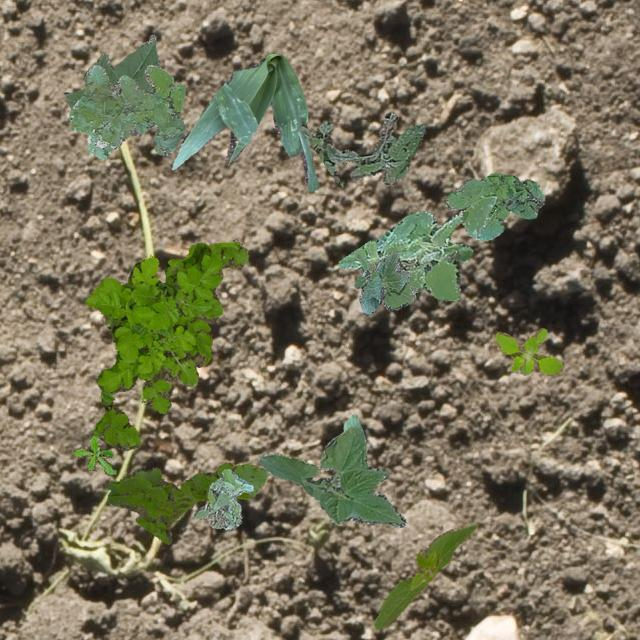crop: (170, 51, 316, 190), (256, 426, 406, 526), (372, 522, 476, 628), (64, 34, 158, 108), (354, 248, 414, 314), (342, 414, 362, 431)
weed: (85, 241, 246, 448), (336, 190, 496, 300), (105, 460, 268, 542), (68, 64, 184, 158), (298, 110, 426, 188), (444, 172, 544, 240), (194, 468, 254, 530), (492, 326, 560, 374), (72, 434, 115, 474)
